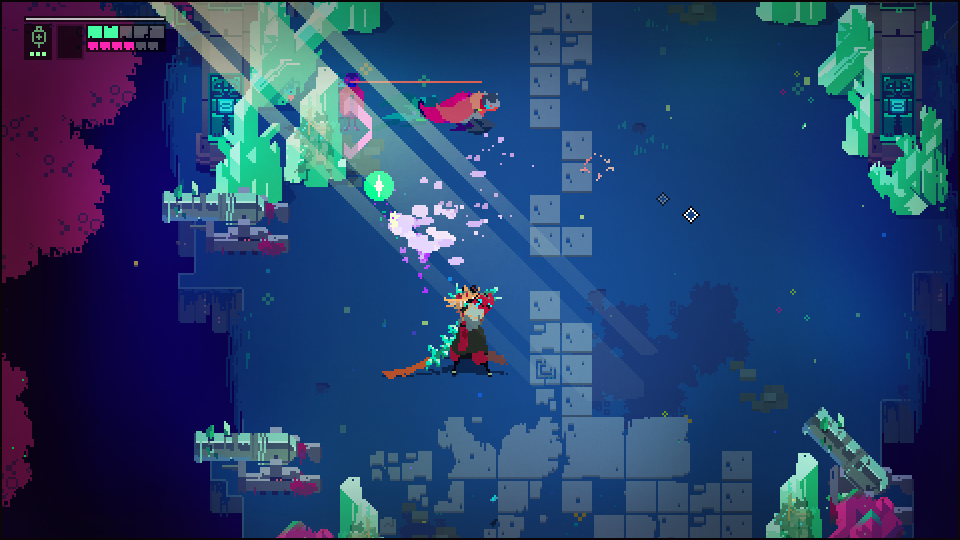hanged_man: (422, 276, 521, 382)
player: (416, 85, 501, 126)
